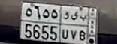5: (41, 8, 50, 40), (50, 7, 58, 41), (25, 7, 32, 39)
6: (32, 5, 41, 39)
B: (78, 13, 86, 42)
U: (61, 11, 69, 40)
V: (70, 11, 78, 40)
